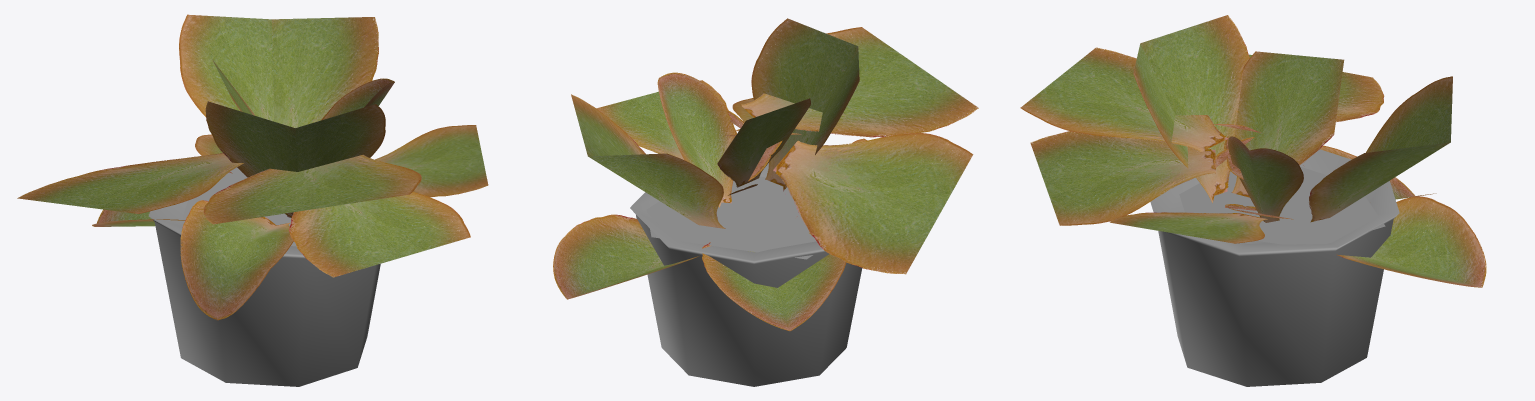
File: Kalanchoe_leaf_lod2.fbx
3 views of the same model, side by side, from view 1: azimuth 30°, elevation 25°; view 2: azimuth 150°, elevation 25°; view 3: azimuth 270°, elevation 25° (orthographic). The views are drawn at different scales.
Visible parts, largest first — view 1: Kalanchoe_leaf_lod2; view 2: Kalanchoe_leaf_lod2; view 3: Kalanchoe_leaf_lod2.
Boxes of the visible parts, box(x1,y1,x2,y2) form: Kalanchoe_leaf_lod2: box(17, 14, 488, 386); Kalanchoe_leaf_lod2: box(553, 18, 978, 386); Kalanchoe_leaf_lod2: box(1020, 15, 1486, 386).
Bounding box in the file's own units: 49.74 × 35.17 × 54.26.
2 materials, 1 textured.
